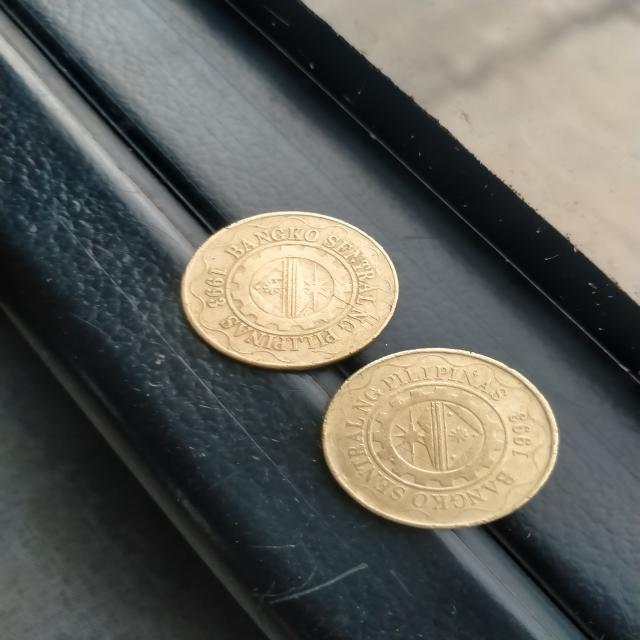5_Old_Back: (321, 344, 558, 537), (192, 206, 406, 370)
